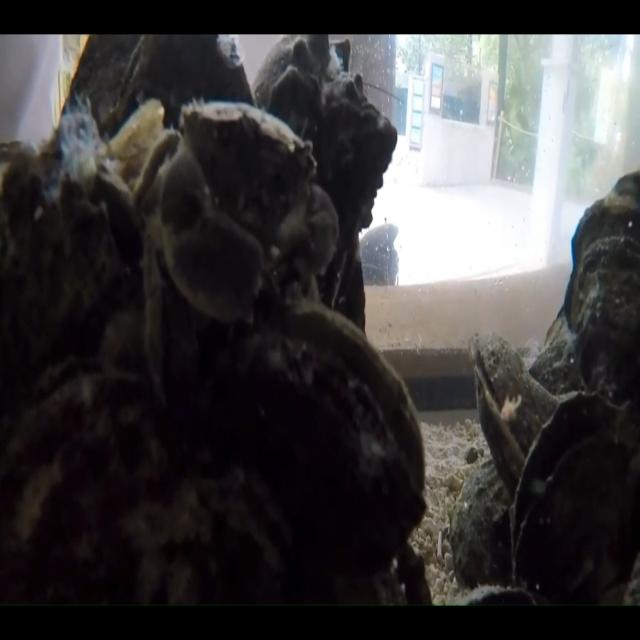Oyster- Indeterminate: (254, 36, 396, 327), (0, 358, 165, 602), (0, 140, 129, 390), (57, 25, 256, 127)
Oyster-Closed: (530, 171, 640, 409)
Oyster-Open: (248, 302, 425, 569), (511, 393, 640, 602), (469, 333, 559, 496)
